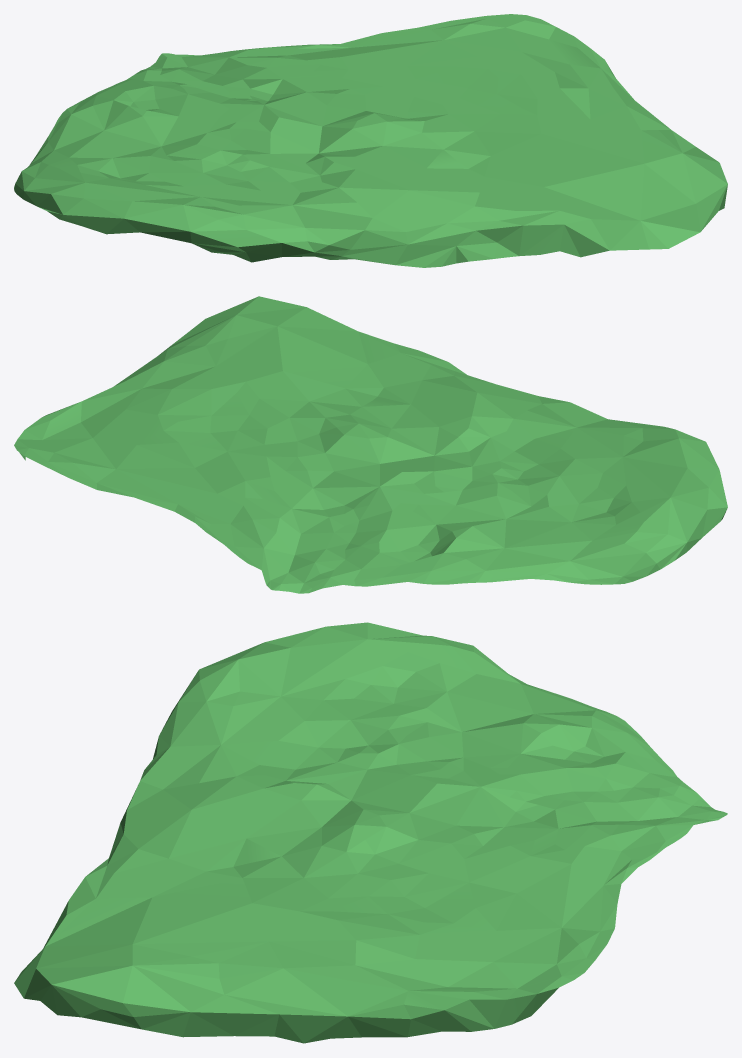
Rendered from ground.081.fbx.
The picture shows the model from 3 angles, top to bottom: view 1: azimuth 30°, elevation 25°; view 2: azimuth 150°, elevation 25°; view 3: azimuth 270°, elevation 25°; orthographic projection. The views are drawn at different scales.
Parts seen in each view (by area): view 1: ground_081; view 2: ground_081; view 3: ground_081.
Boxes of the visible parts, x1=… form: ground_081: x1=14, y1=14, x2=727, y2=267; ground_081: x1=14, y1=296, x2=727, y2=593; ground_081: x1=14, y1=622, x2=727, y2=1043.
Size of the model in its own units: 20796 by 2582 by 17726.
